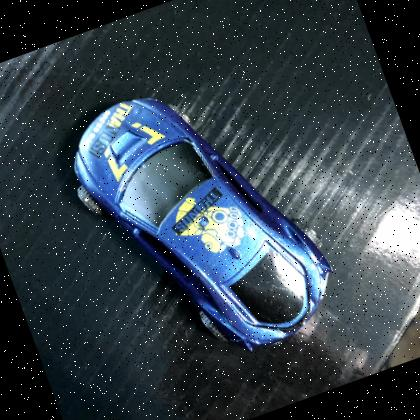Car: (44, 42, 362, 401)
